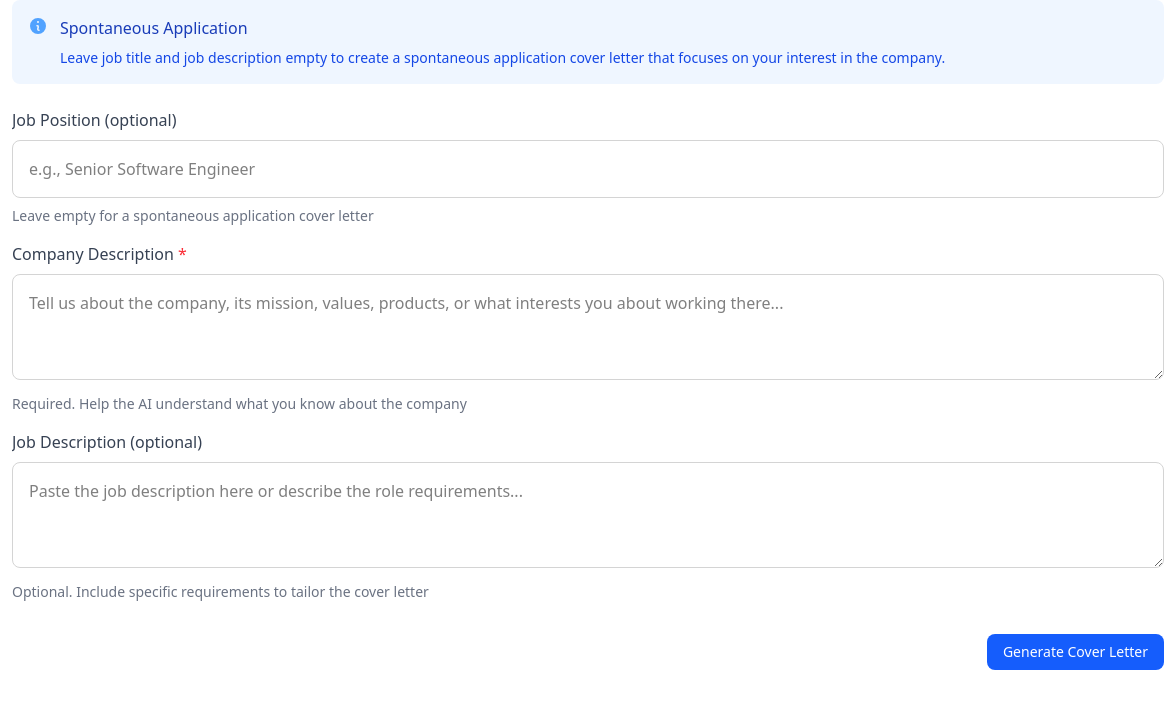
Test case: CoverLetterInputForm › form validation › should show validation error when trying to submit without company description
Try to submit empty form
Step 1. Click the button "Generate Cover Letter" → [1075, 652], box 987,634 -> 1164,670
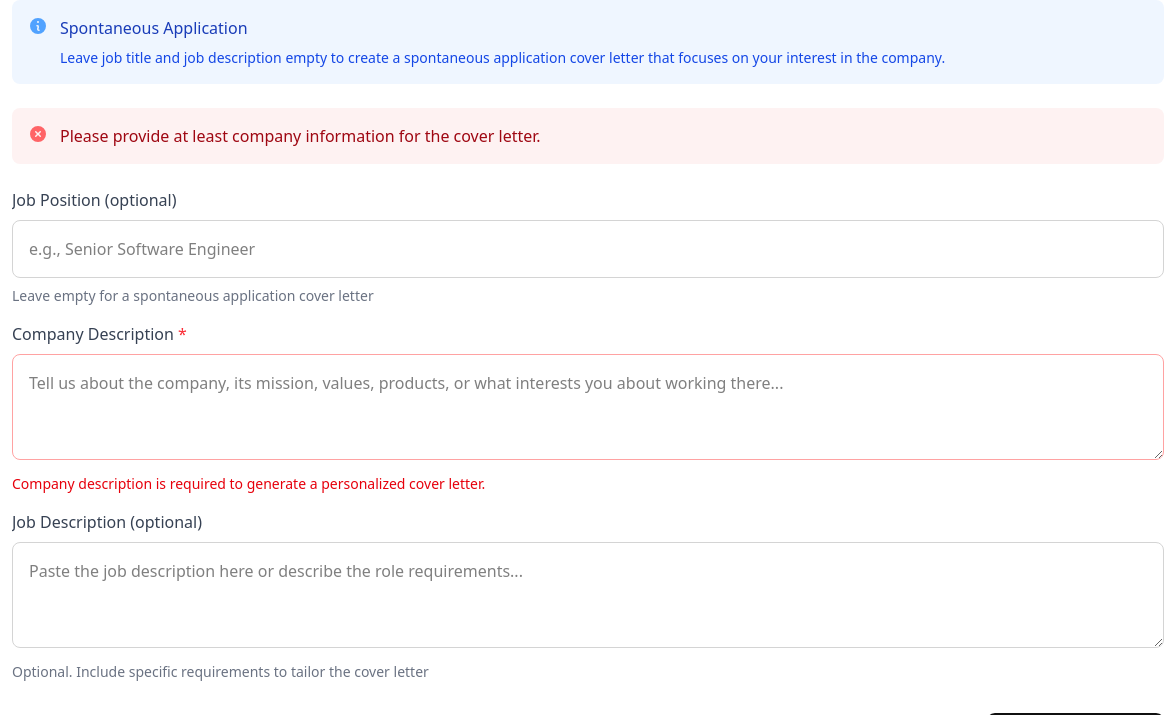
Result: the text "Company description is required" is shown at 12,474 -> 485,493
